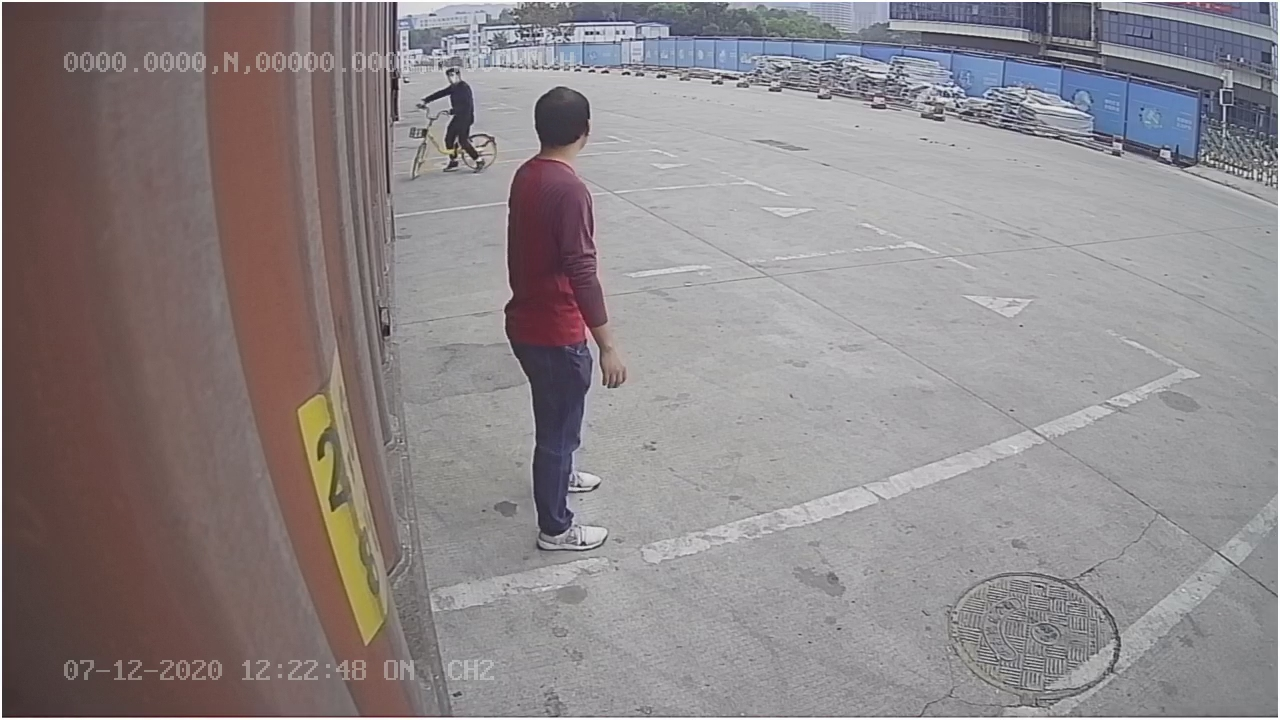person: (498, 80, 635, 558)
